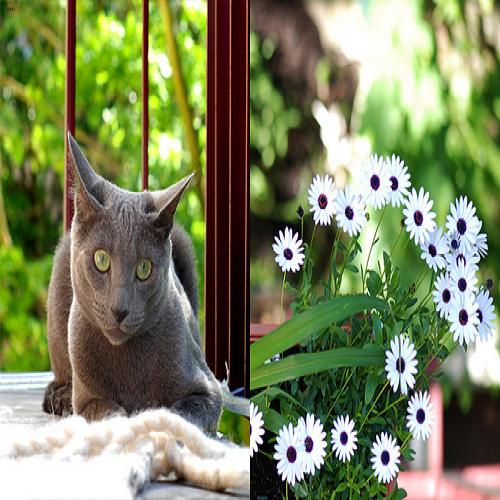rblue: (68, 124, 197, 359)
